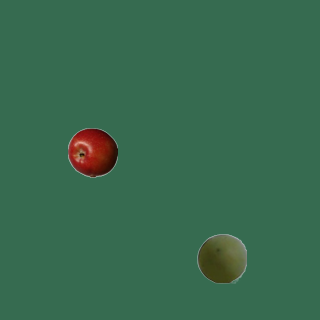Apple Braeburn: (67, 127, 117, 177)
Grape White 4: (196, 233, 246, 283)
